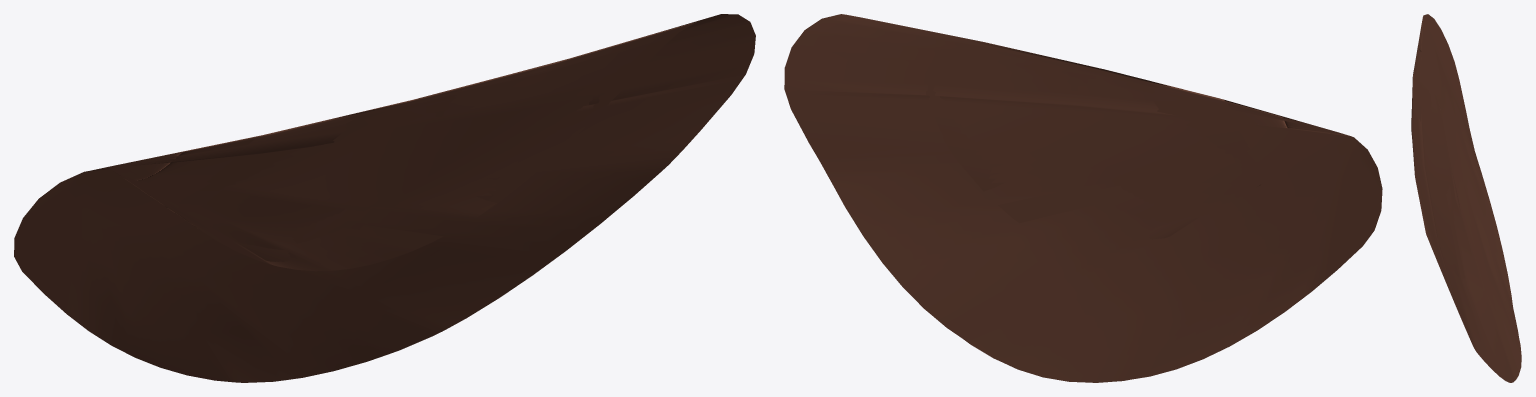
Rendered from mouth_smile.glb.
3 views of the same model, side by side, from view 1: azimuth 30°, elevation 25°; view 2: azimuth 150°, elevation 25°; view 3: azimuth 270°, elevation 25° (orthographic). The views are drawn at different scales.
Visible parts, largest first — view 1: Cat_mouth_smile.001; view 2: Cat_mouth_smile.001; view 3: Cat_mouth_smile.001.
Boxes of the visible parts, x1,y1,x2,y2 form: Cat_mouth_smile.001: (14, 14, 755, 382); Cat_mouth_smile.001: (784, 14, 1382, 382); Cat_mouth_smile.001: (1411, 14, 1521, 382).
Bounding box in the file's own units: 0.0338 × 0.0143 × 0.00615.
